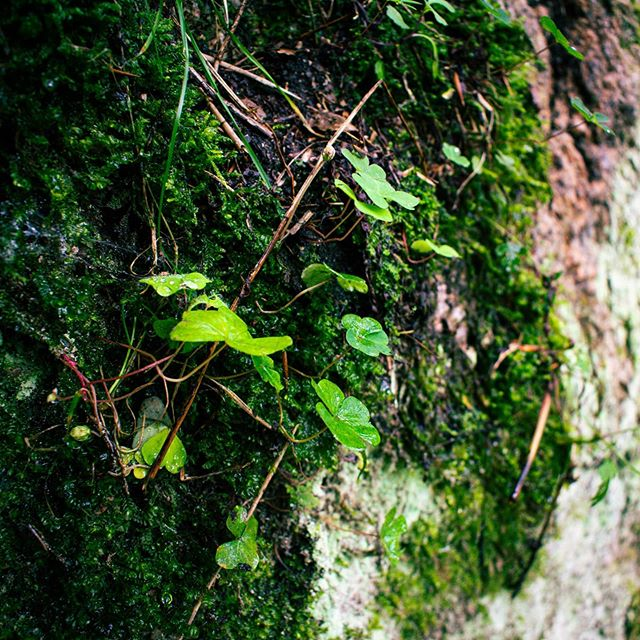vegetation: (1, 1, 629, 628)
